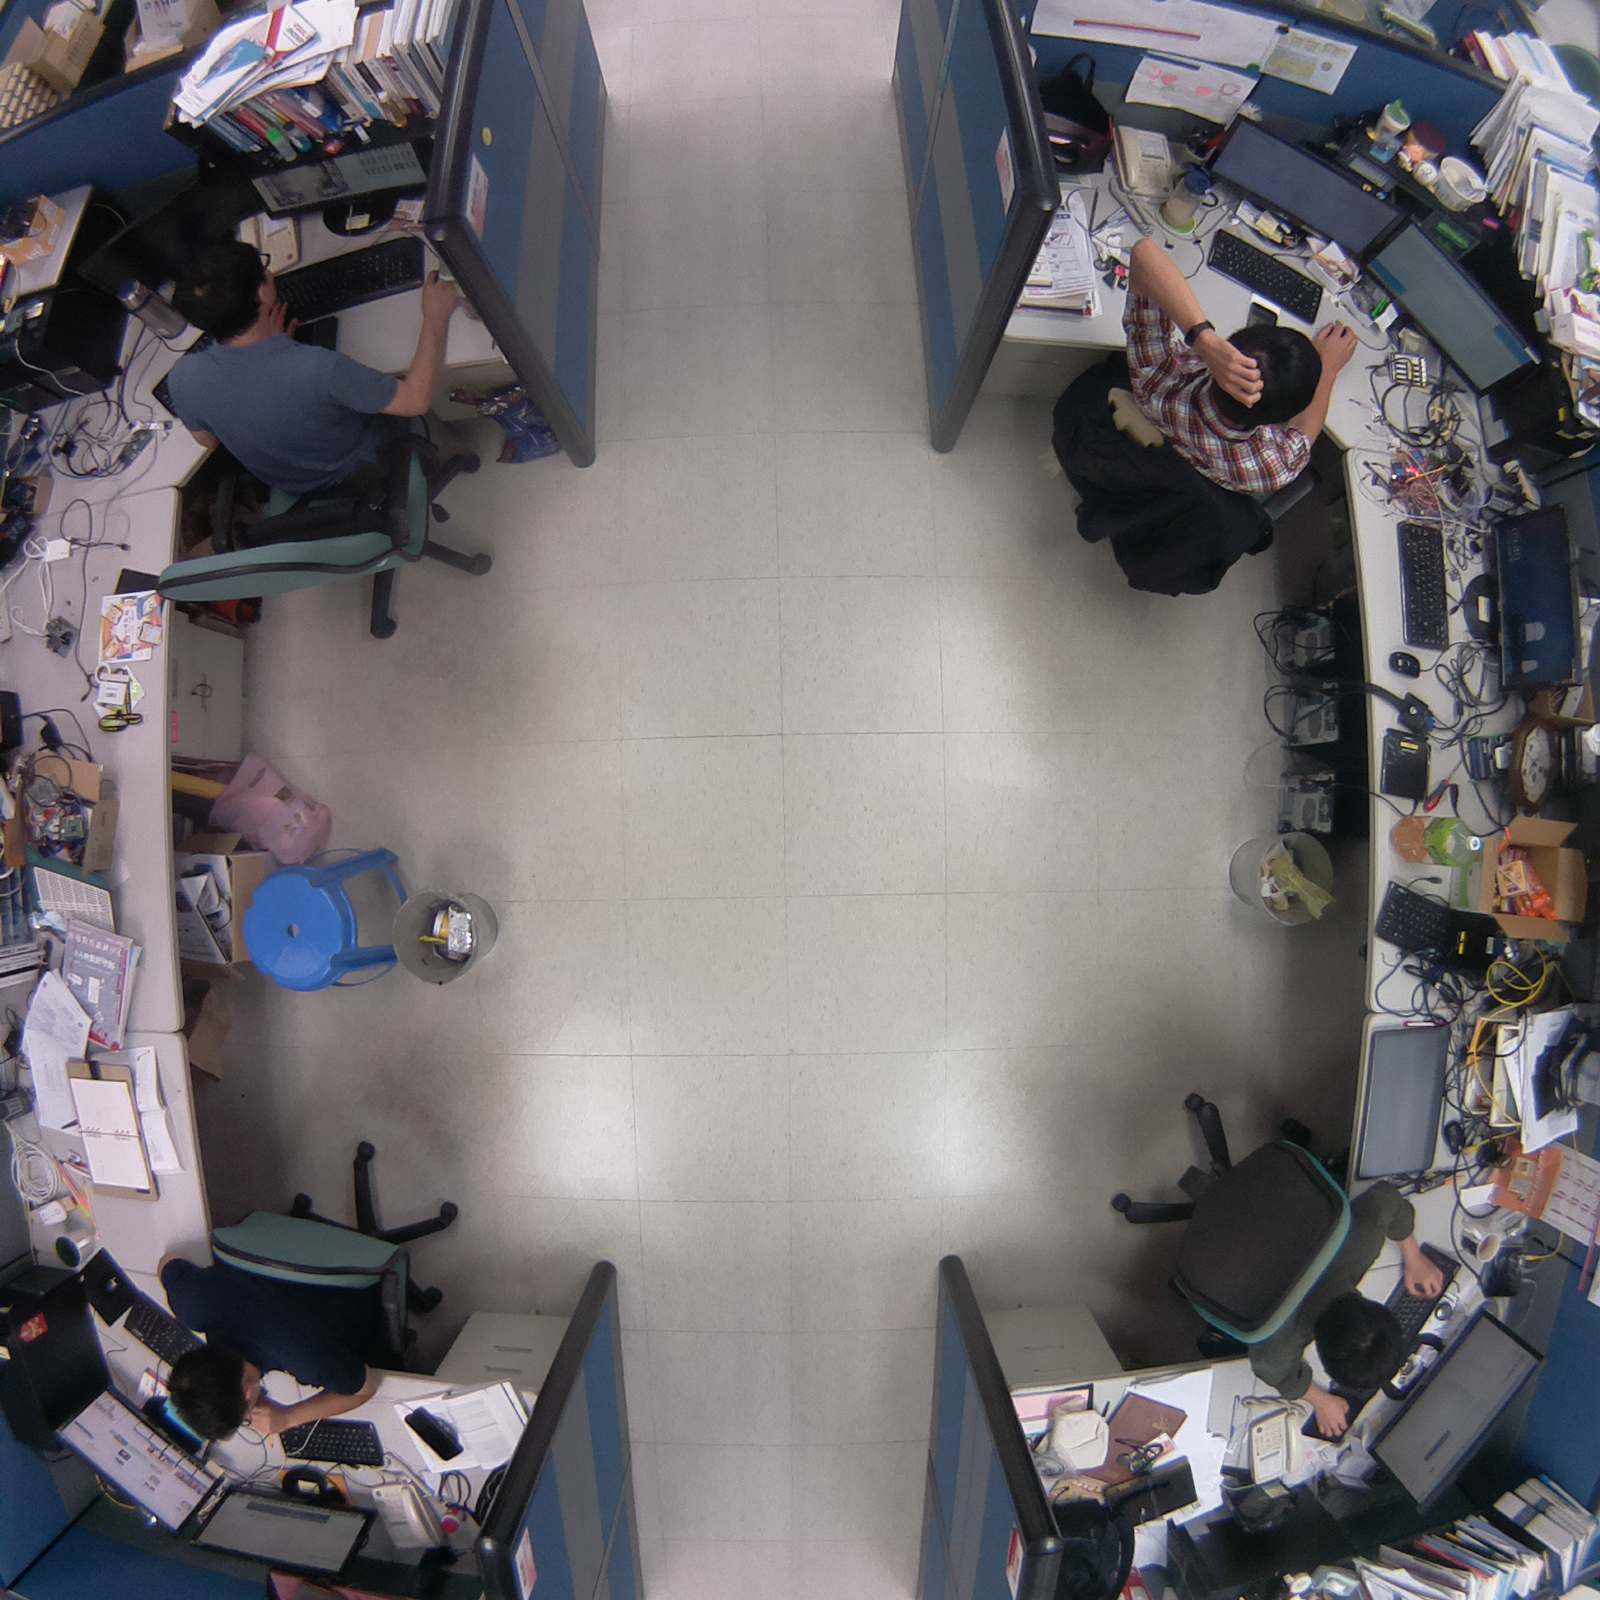head: (1199, 320, 1328, 434), (1306, 1287, 1417, 1407), (163, 1329, 272, 1451), (163, 234, 283, 338)
sitting: (145, 241, 512, 673), (1083, 1081, 1451, 1447), (1035, 231, 1350, 617), (142, 1132, 478, 1454)
